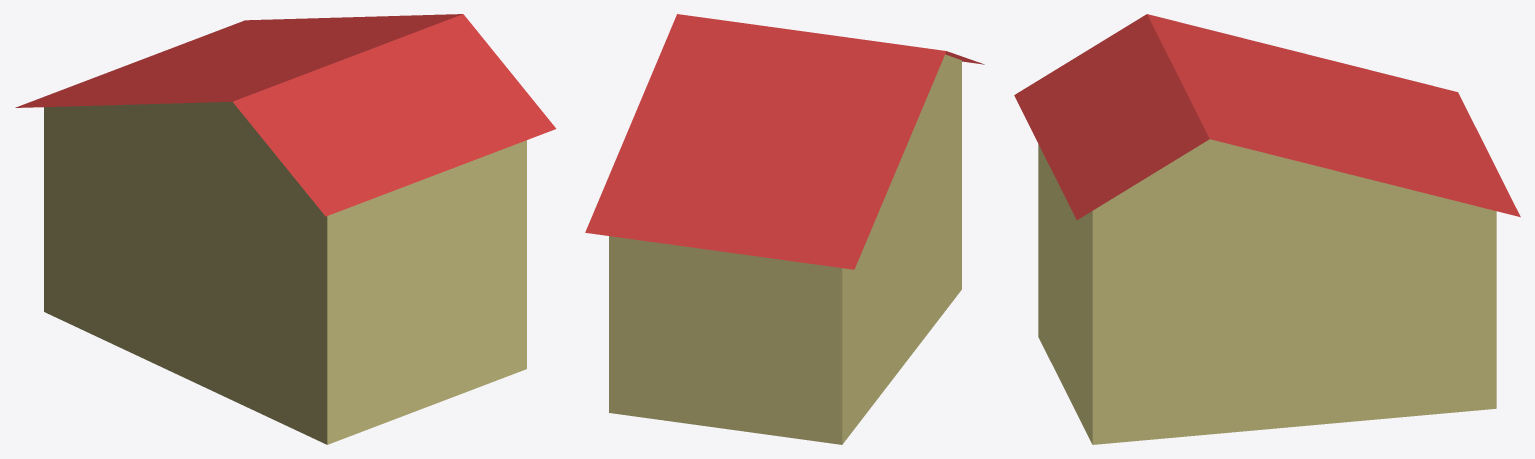
The picture shows the model from 3 angles, left to right: view 1: azimuth 30°, elevation 25°; view 2: azimuth 150°, elevation 25°; view 3: azimuth 270°, elevation 25°; orthographic projection. The views are drawn at different scales.
Size of the model in its own units: 9.59 by 12.45 by 8.24.
